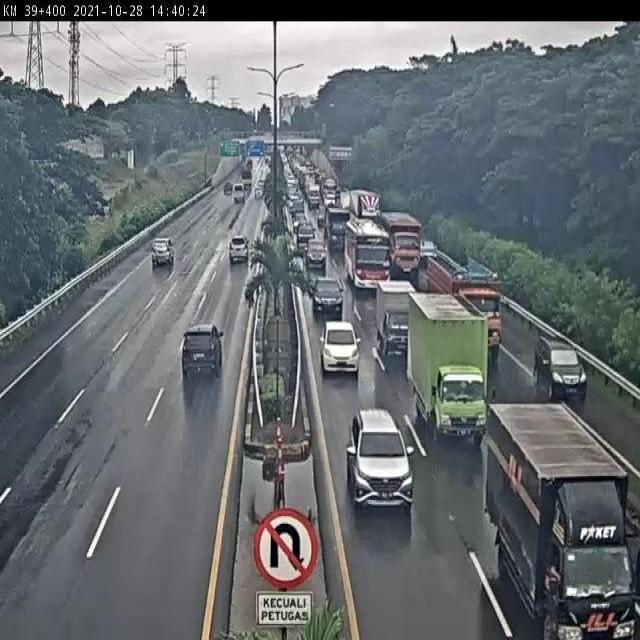car: (345, 409, 414, 507), (533, 335, 588, 403), (181, 324, 228, 375), (321, 320, 360, 372), (310, 279, 342, 313), (149, 235, 176, 268), (227, 236, 250, 264), (305, 239, 327, 267)
truck: (486, 404, 640, 640), (407, 294, 492, 446), (427, 253, 501, 355), (373, 279, 419, 357), (343, 213, 389, 288), (383, 214, 420, 270)
